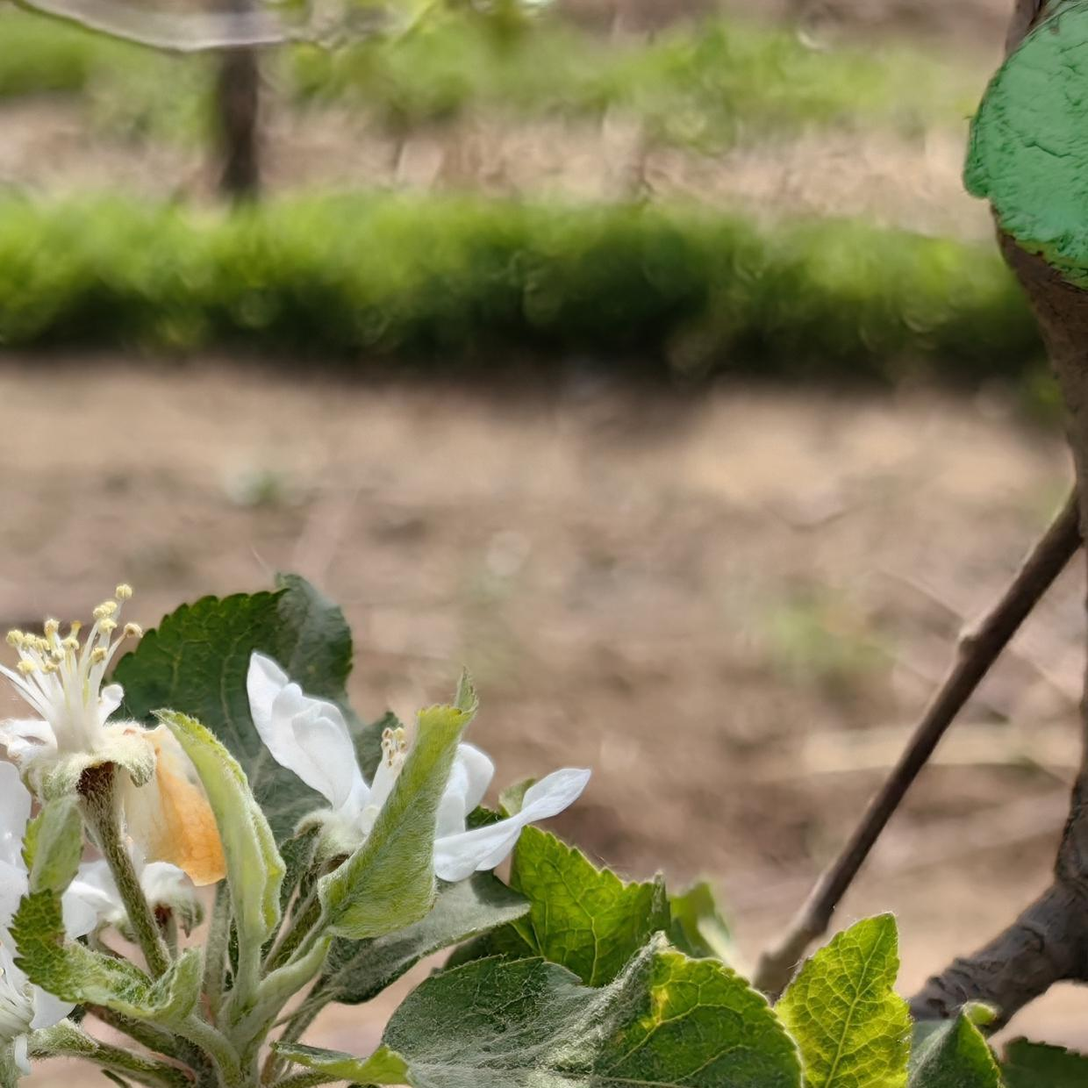apple_flower: (432, 740, 592, 879), (251, 658, 334, 748), (64, 854, 124, 931), (331, 766, 390, 823), (132, 858, 195, 908), (287, 742, 327, 783)
